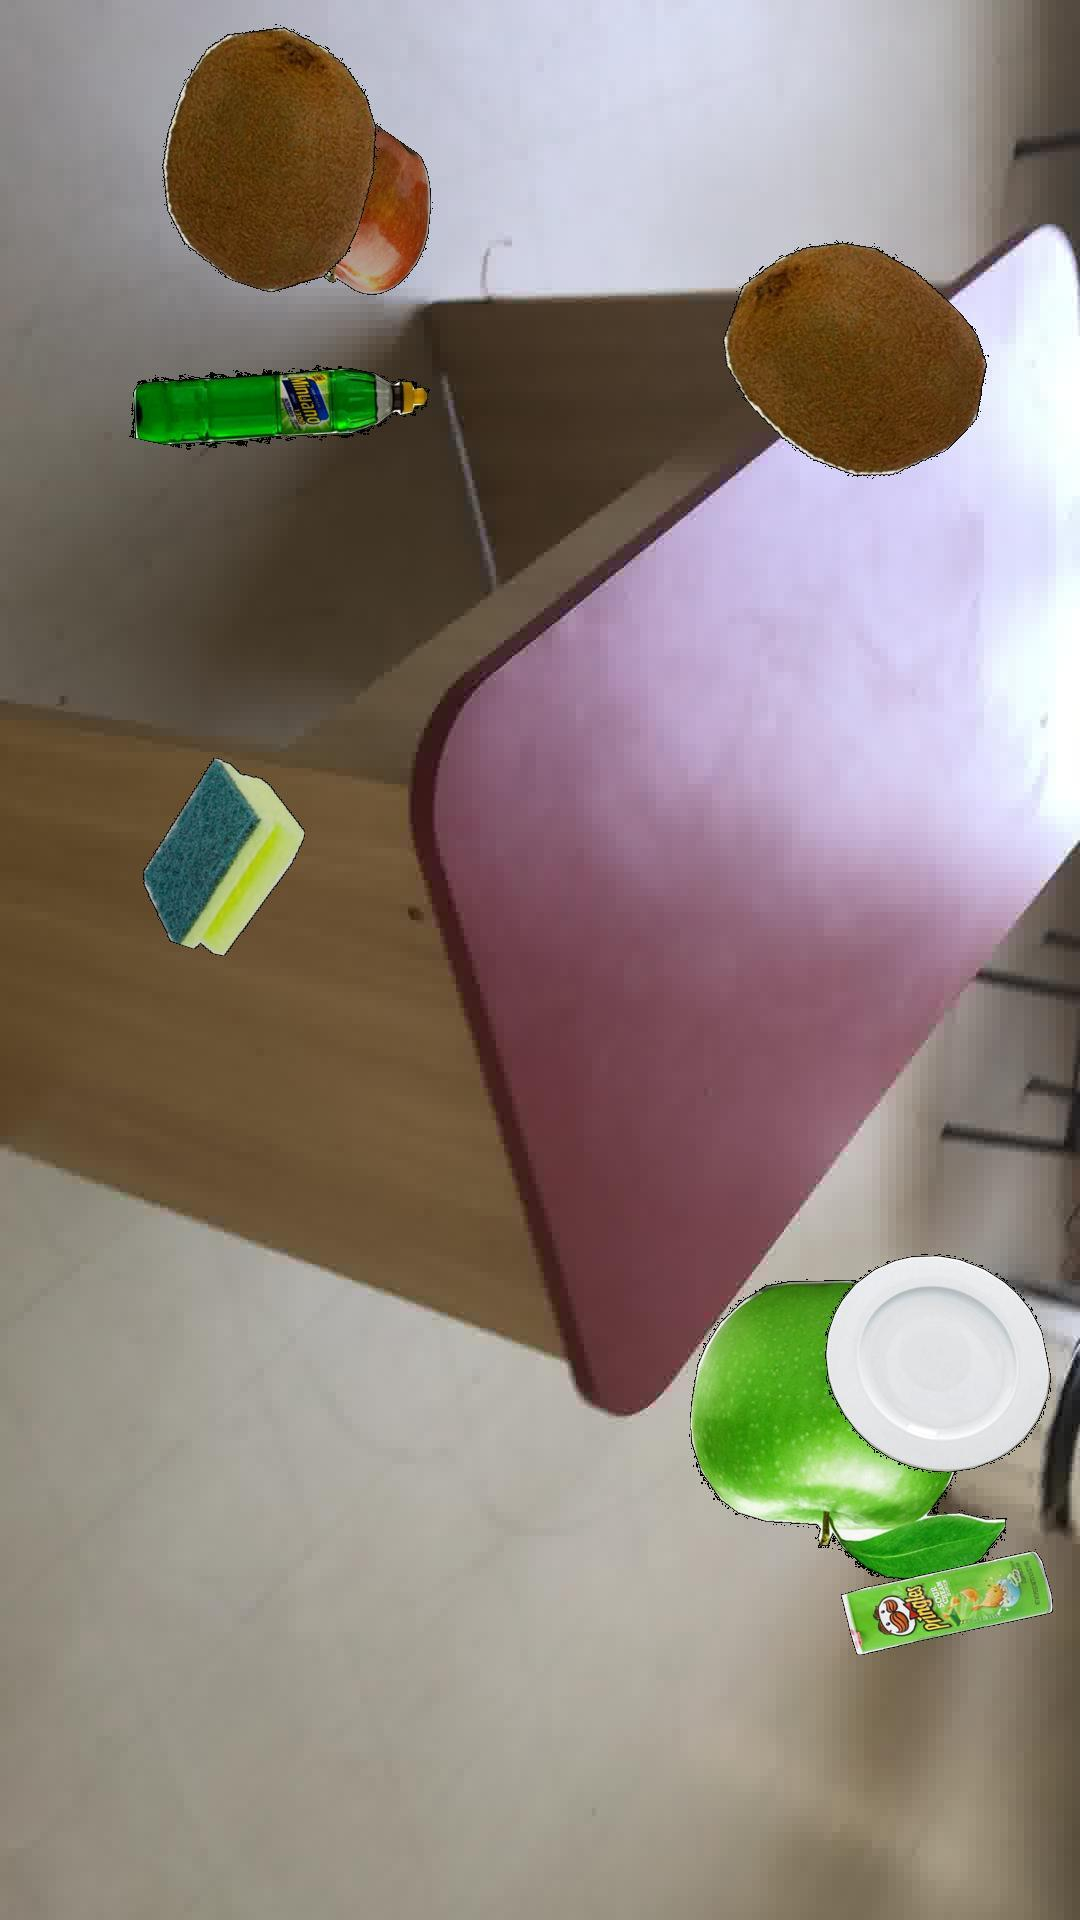apple: (323, 124, 430, 294)
cleaner: (128, 364, 429, 447)
green apple: (688, 1279, 1006, 1577)
kiwi: (721, 240, 985, 476), (161, 25, 376, 290)
plate: (823, 1254, 1050, 1472)
pringles: (840, 1549, 1051, 1654)
sponge: (141, 757, 303, 955)
